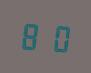eight: (19, 18, 44, 52)
zero: (45, 20, 70, 54)
